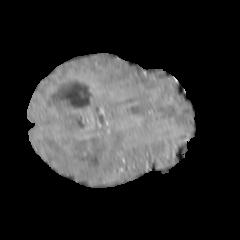glioma: (42, 108, 124, 179)
